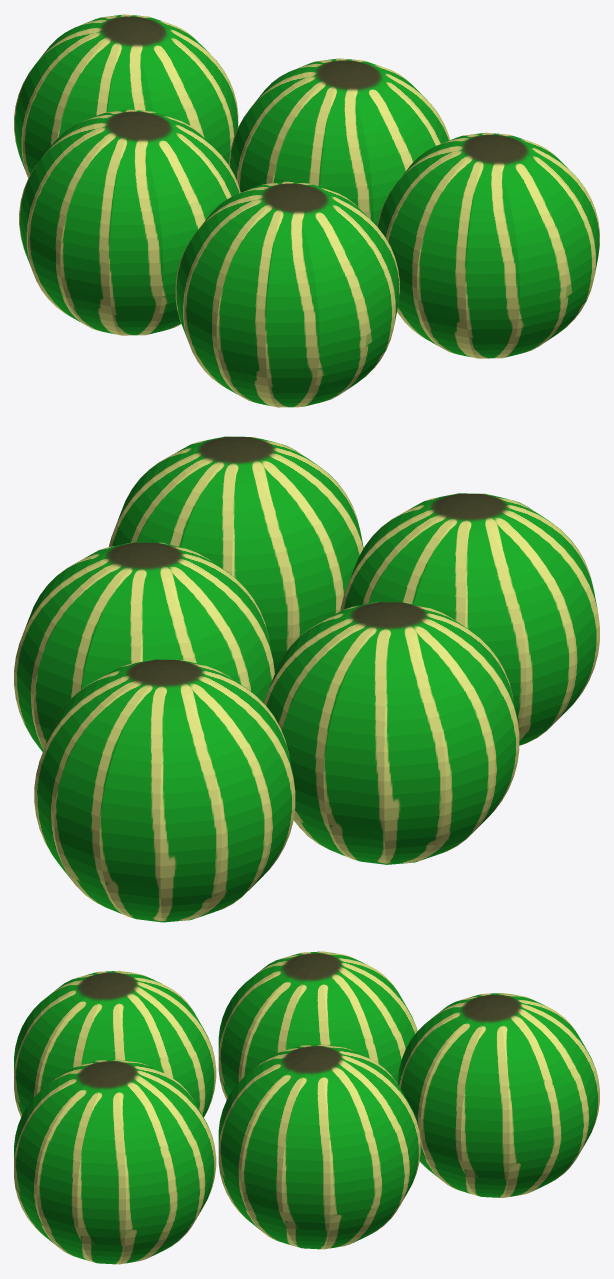
File: huevos_stelenes_bip.fbx
The picture shows the model from 3 angles, top to bottom: view 1: azimuth 30°, elevation 25°; view 2: azimuth 150°, elevation 25°; view 3: azimuth 270°, elevation 25°; orthographic projection. The views are drawn at different scales.
Visible parts, largest first — view 1: Sphere, Sphere.001, Sphere.003, Sphere.002, Sphere.004; view 2: Sphere.004, Sphere.003, Sphere, Sphere.001, Sphere.002; view 3: Sphere.002, Sphere.001, Sphere.004, Sphere, Sphere.003.
Part boxes in pixels (<box>): Sphere: <box>175,181,399,407</box>; Sphere.001: <box>377,132,599,358</box>; Sphere.003: <box>19,109,240,335</box>; Sphere.002: <box>229,58,449,225</box>; Sphere.004: <box>14,14,238,177</box>; Sphere.004: <box>34,659,295,922</box>; Sphere.003: <box>264,602,519,864</box>; Sphere: <box>340,493,599,745</box>; Sphere.001: <box>109,436,363,672</box>; Sphere.002: <box>14,542,274,751</box>; Sphere.002: <box>218,1044,420,1249</box>; Sphere.001: <box>14,1059,216,1264</box>; Sphere.004: <box>397,993,599,1197</box>; Sphere: <box>14,970,216,1117</box>; Sphere.003: <box>218,951,417,1099</box>.
Size of the model in its own units: 447 by 200 by 570.
1 material, 1 textured.
